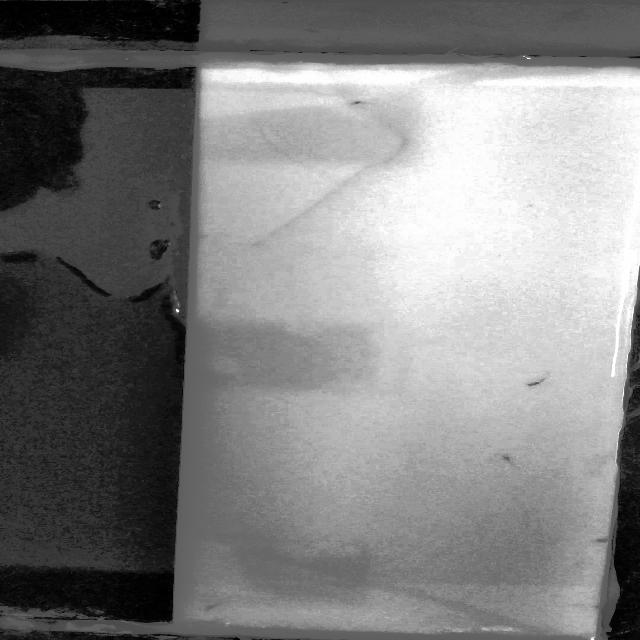shrimp: (521, 368, 552, 392), (342, 94, 382, 108), (198, 596, 230, 610), (499, 452, 522, 468)
